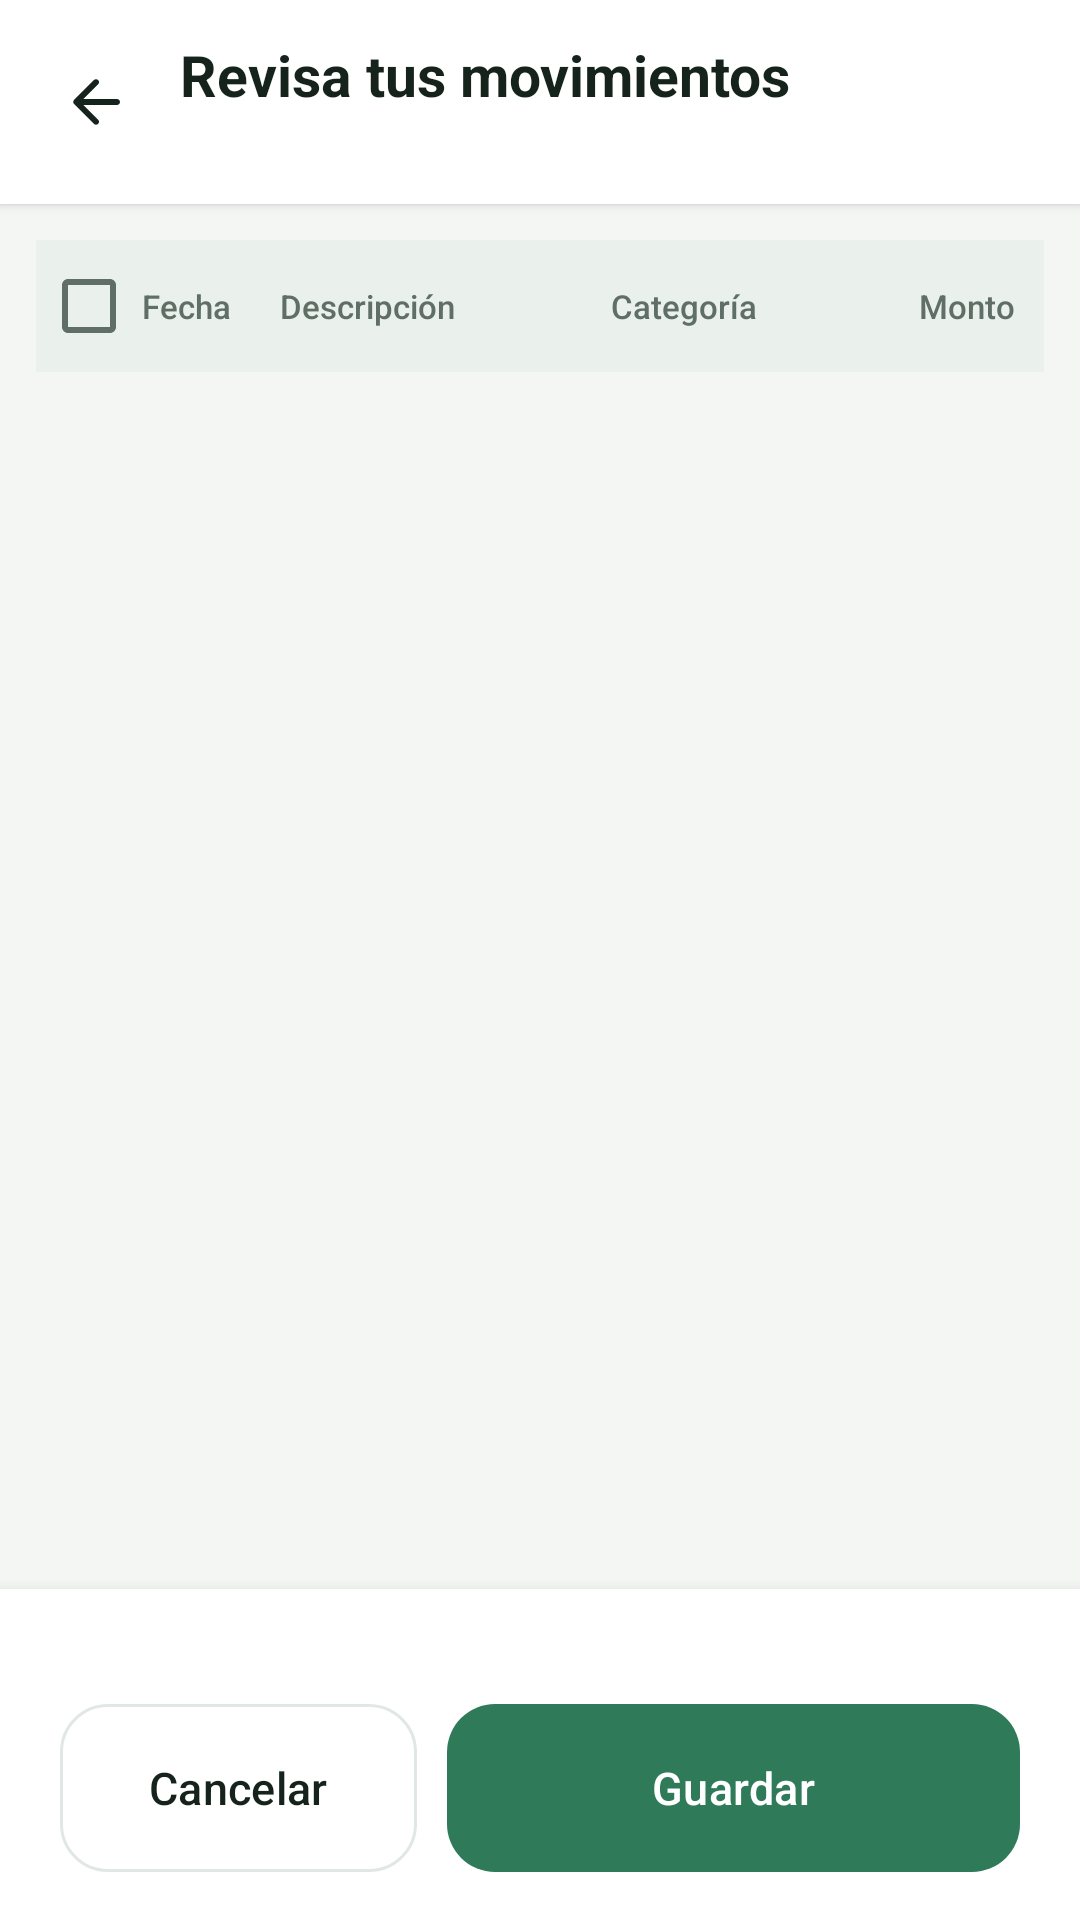

Locate icon controls on the screen. Image size 1080×1920, boxes as (x1, y1, x2, y2).
Regresar: (73, 79, 120, 125)
